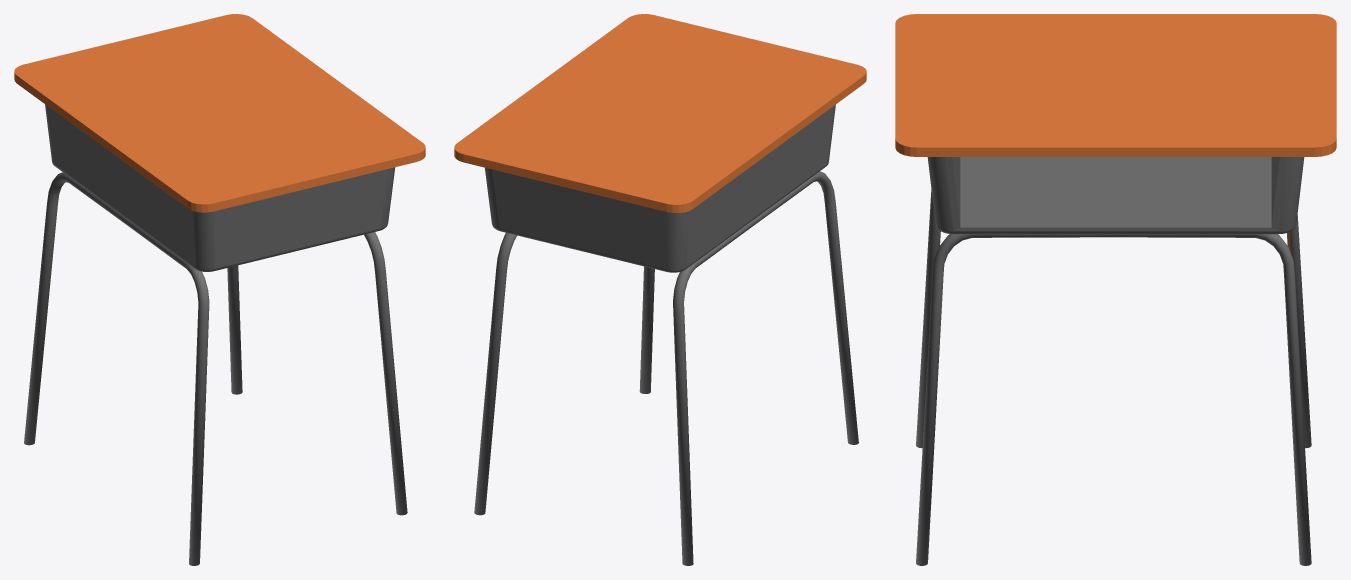
File: desk.fbx
The picture shows the model from 3 angles, left to right: view 1: azimuth 30°, elevation 25°; view 2: azimuth 150°, elevation 25°; view 3: azimuth 270°, elevation 25°; orthographic projection. The views are drawn at different scales.
Visible parts, largest first — view 1: desk; view 2: desk; view 3: desk.
Part boxes in pixels (left/top/right/bottom): desk: left=14, top=14, right=425, bottom=565; desk: left=454, top=14, right=866, bottom=565; desk: left=895, top=14, right=1336, bottom=565.
Size of the model in its own units: 423 by 630 by 591.
